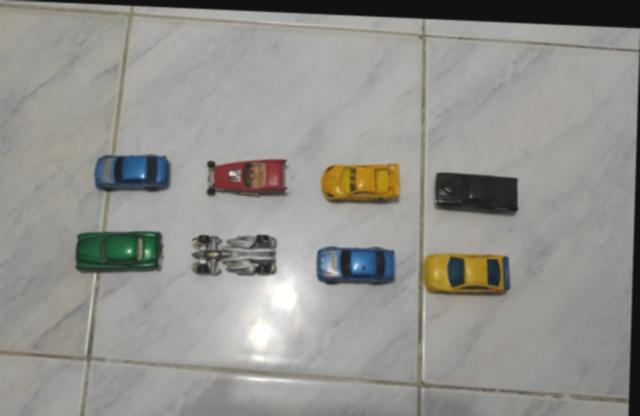01_FORD: (434, 169, 520, 212)
02_OZSOME: (424, 249, 512, 292)
03_V8: (206, 156, 290, 195)
04_MERZEDES: (316, 243, 398, 283), (93, 154, 172, 192)
05_DC121: (191, 233, 279, 276)
06_MASERATI: (75, 230, 164, 274)
07_RHLTURBO: (321, 160, 401, 202)
